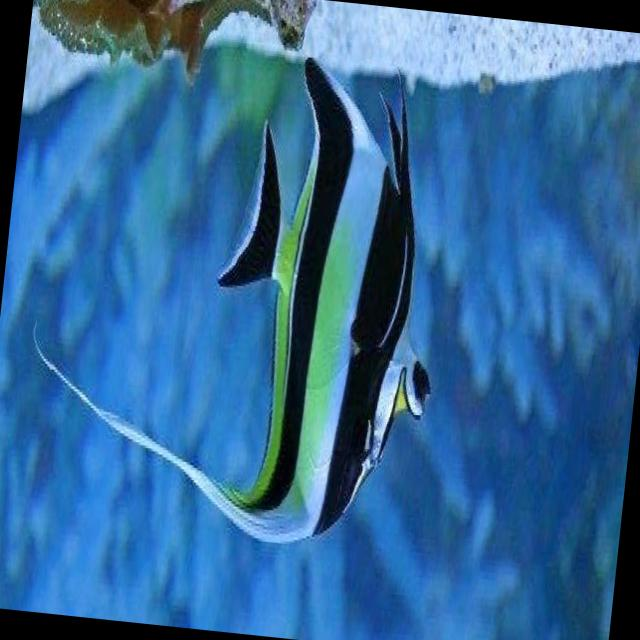MorishIdol: (12, 28, 466, 562)
